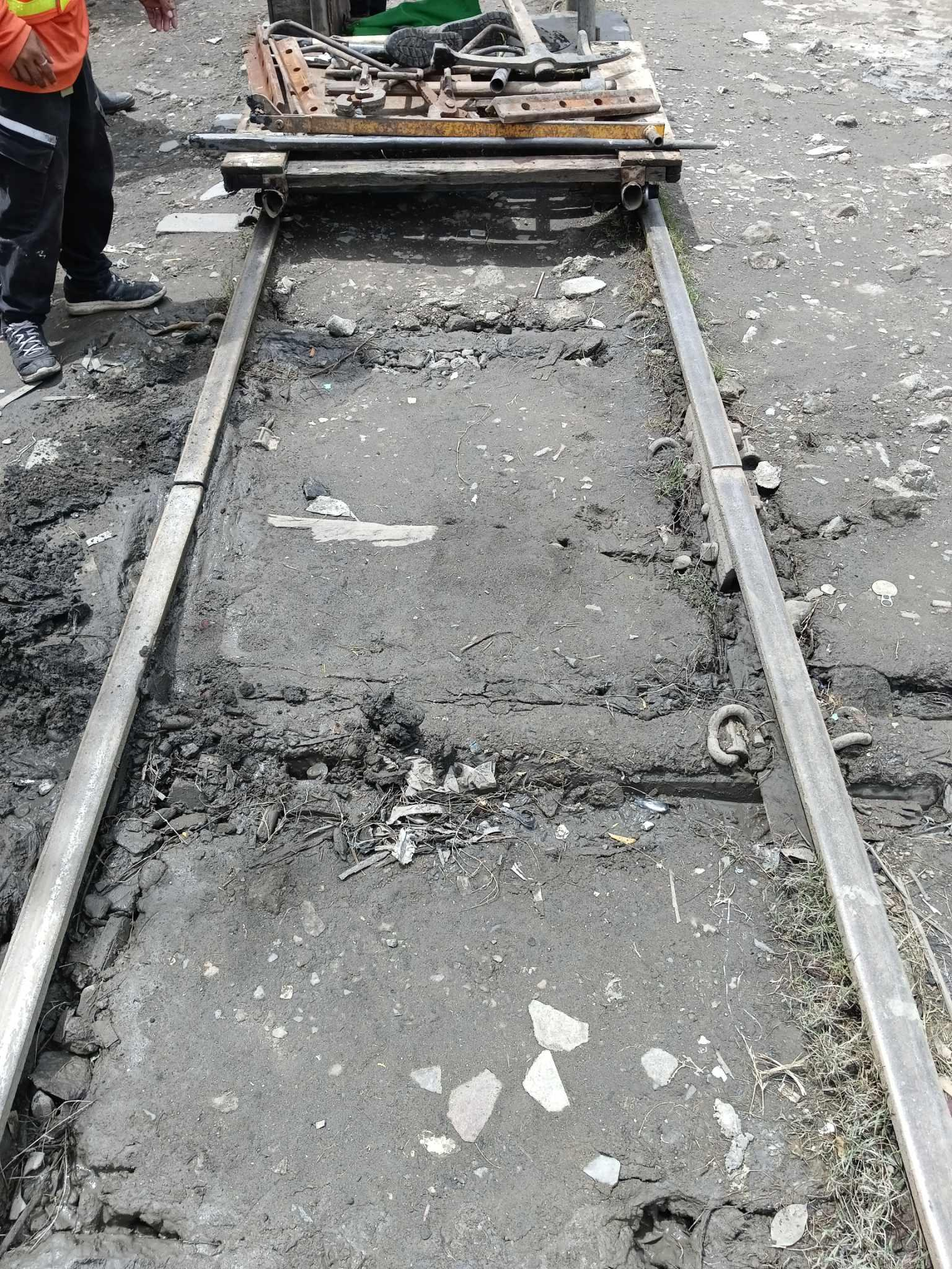railway-gap: (672, 430, 770, 511), (137, 445, 232, 526)
